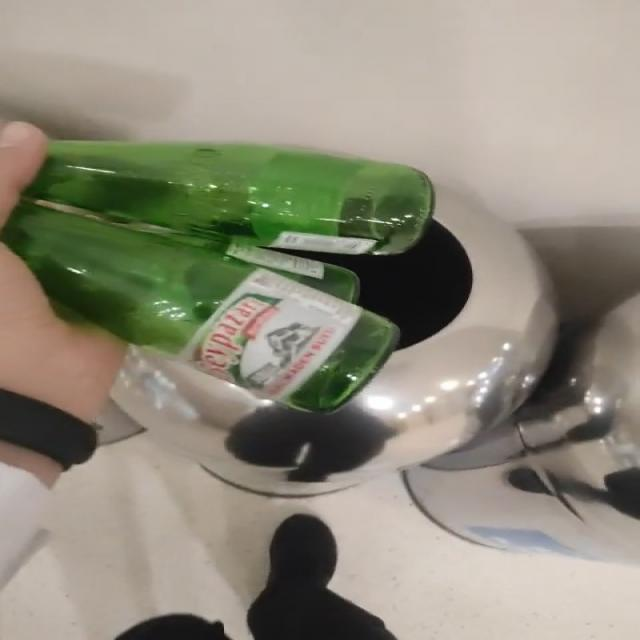glass: (3, 142, 435, 412)
